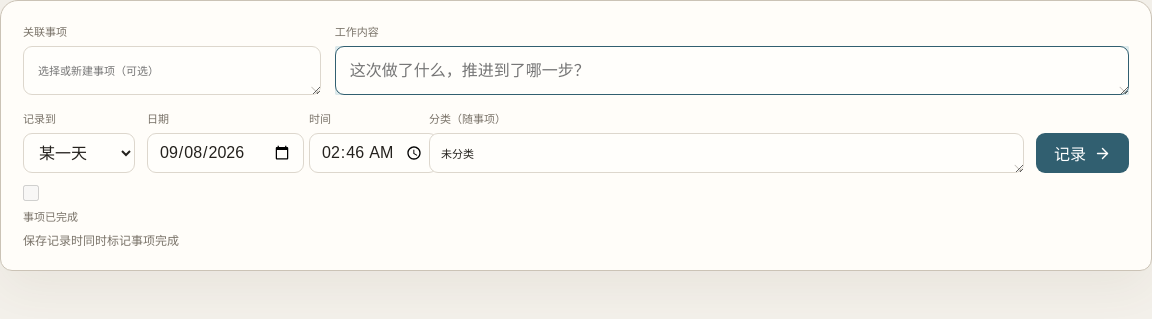
Scenario: quick work entry › recognizes a completed existing item and never recreates it with a guessed category
The width and height of the screenshot is (1152, 319).
Type "之前做过的事项" into the field labelled "关联事项" at (172, 70), box [23,46,321,95]
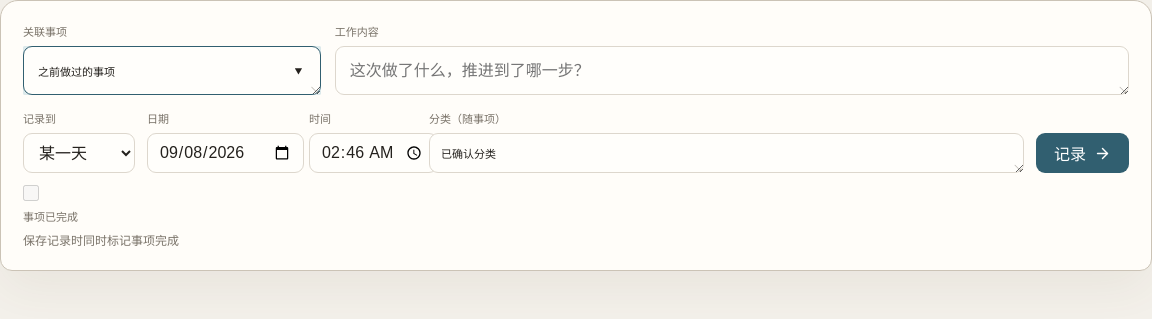
Expected: the field labelled "分类" holds "已确认分类", [429,133,1024,173]
Type "追加记录" into the field labelled "工作内容" at (732, 70), box [335,46,1129,95]
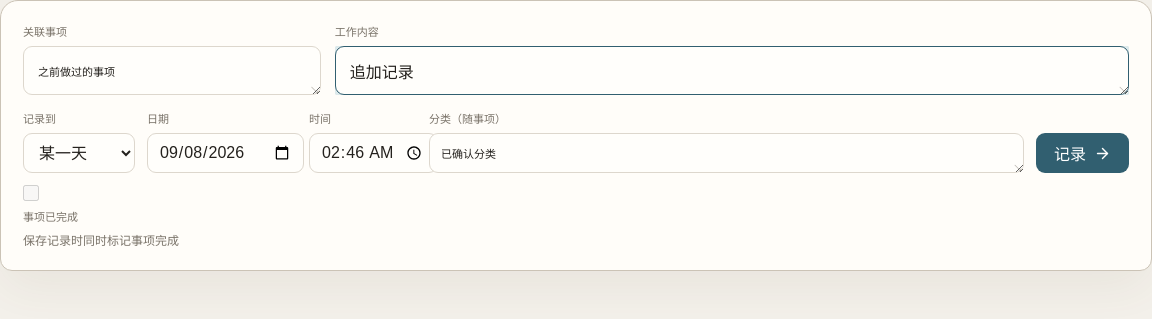
Click the button "记录" at (1082, 153), box [1036,133,1129,173]
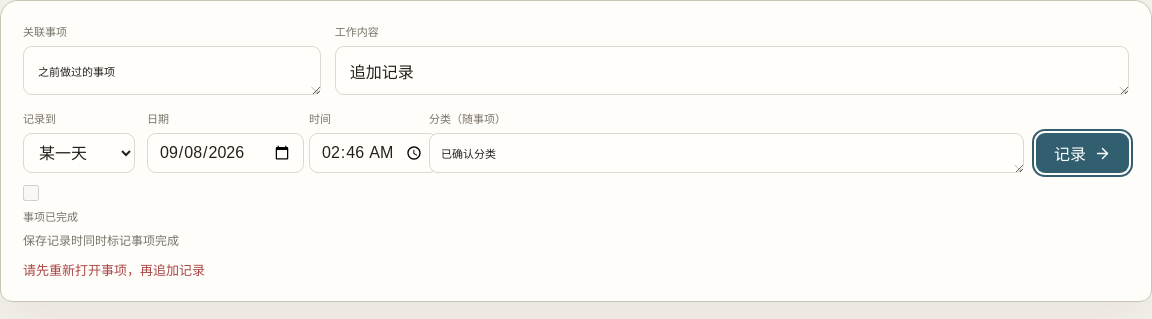
Expected: the message shows "请先重新打开事项", [23,263,205,278]
